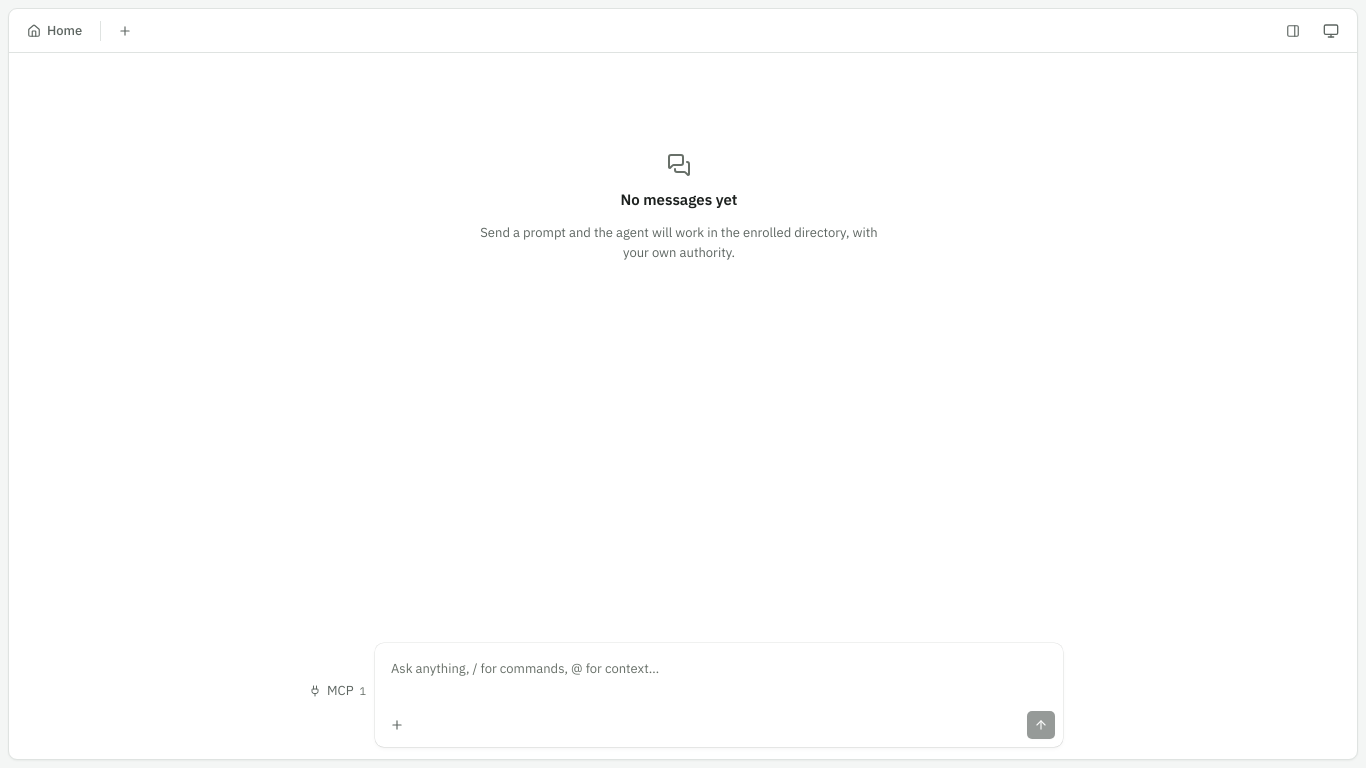
Test: SessionView › closes the MCP menu on outside click and shows on/off status
What coordinates should you click on to do the following:
click the button with aria-label "1 MCP integration"
I would click on:
 (338, 691)
Its box is [303,677,372,705].
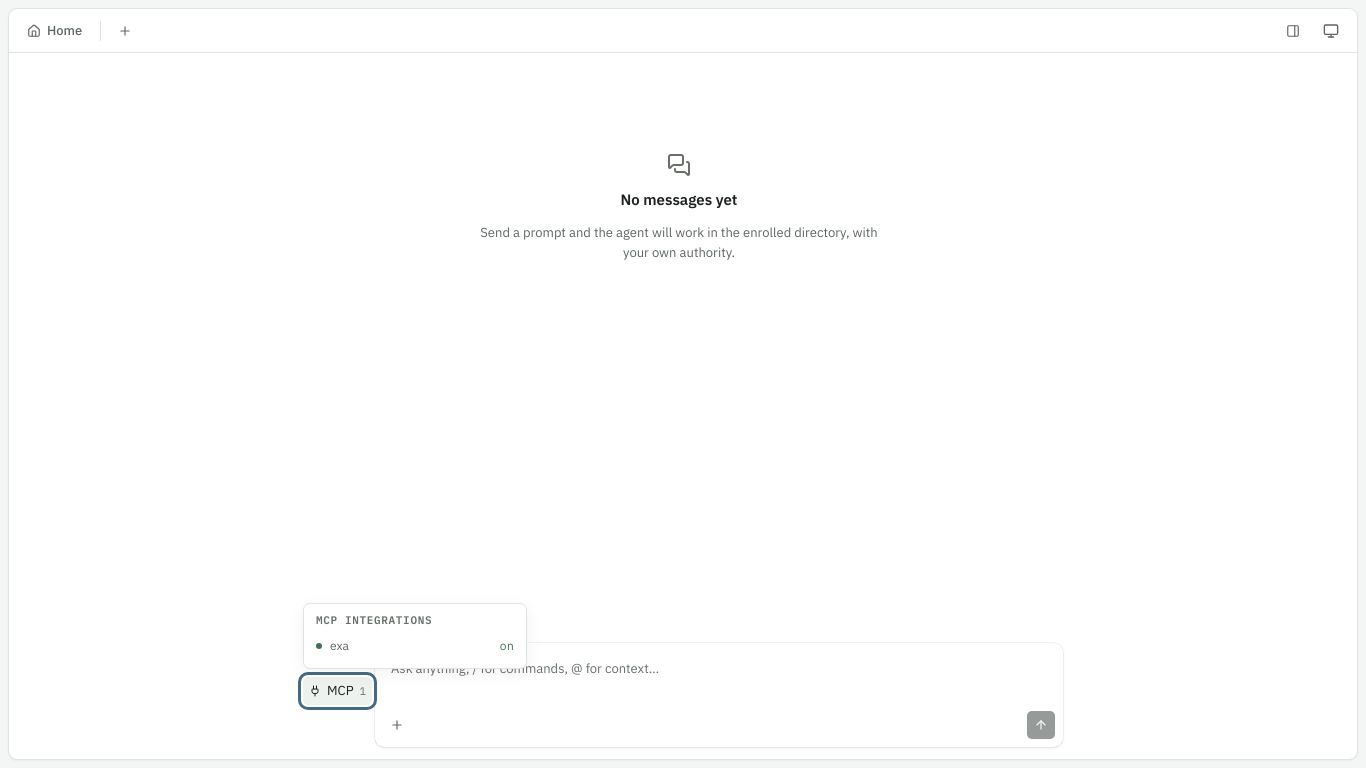
Result: the list "MCP integrations exa on" is shown at [303,603,527,669]
What coordinates should you click on to do the following:
click the text box named "message the agent"
I would click on:
 (719, 673)
Its box is [375,643,1063,703].
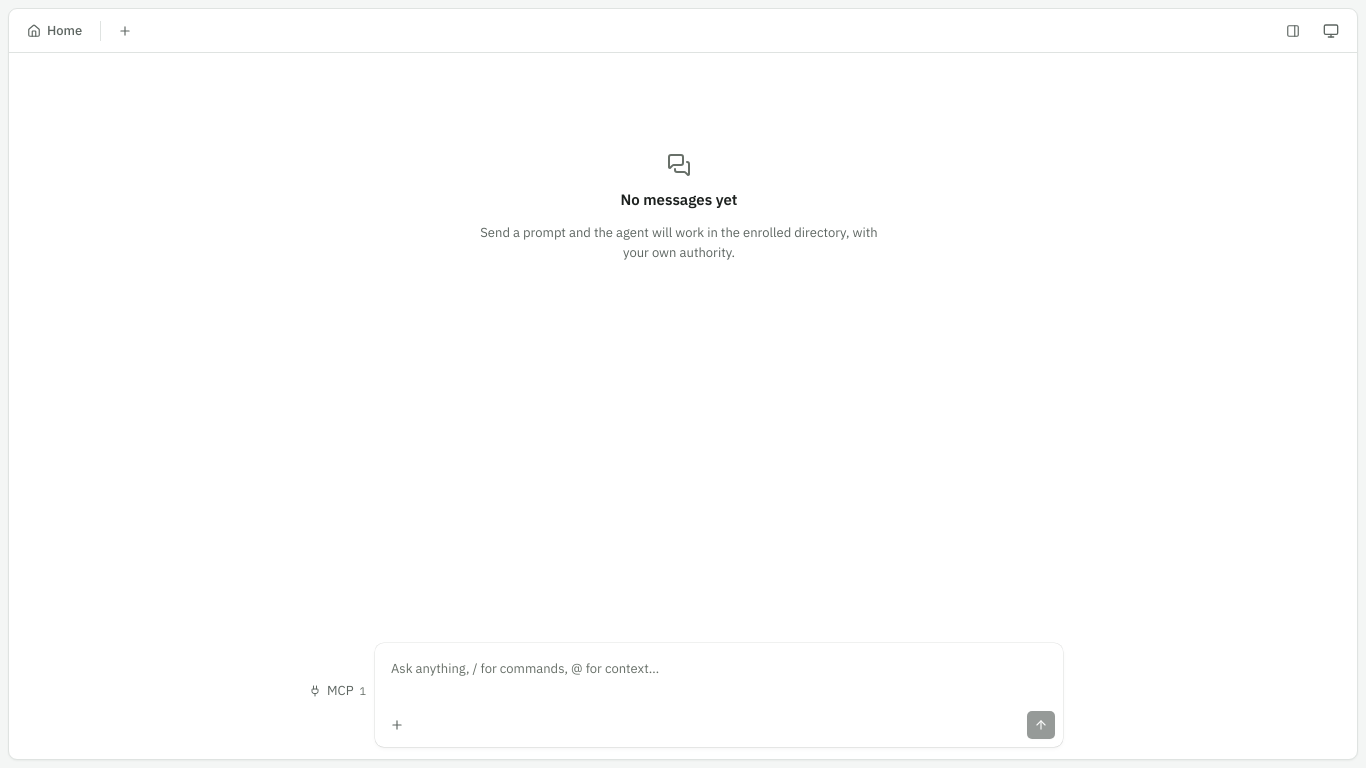
Result: the text "MCP integrations" is gone
